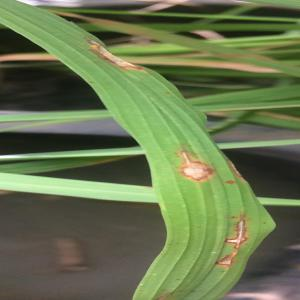Rice_Blast: (200, 199, 269, 285), (141, 119, 213, 190), (85, 31, 159, 92), (219, 141, 267, 191)
